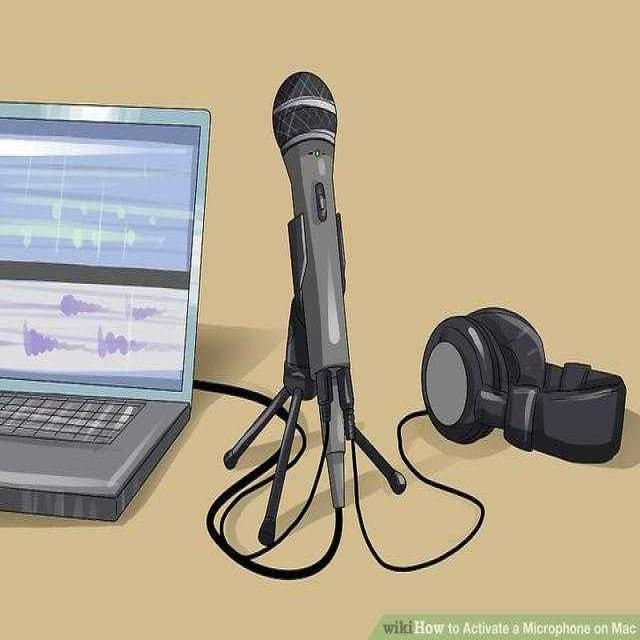microphone: (267, 68, 369, 476)
